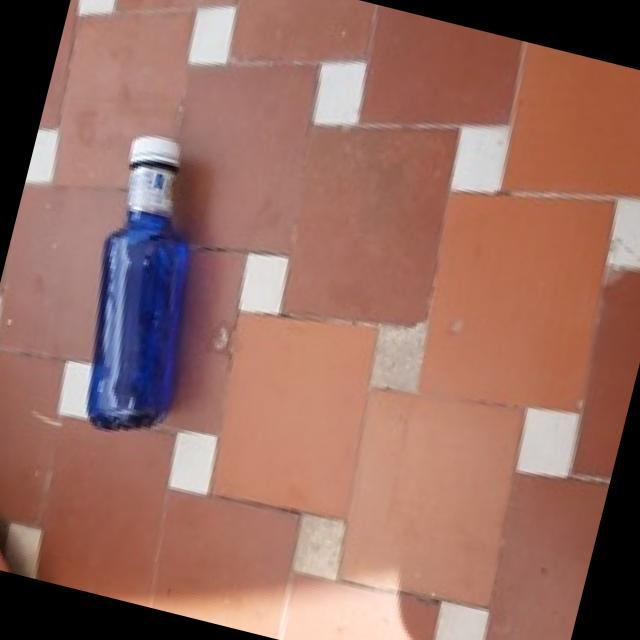good: (41, 112, 248, 456)
